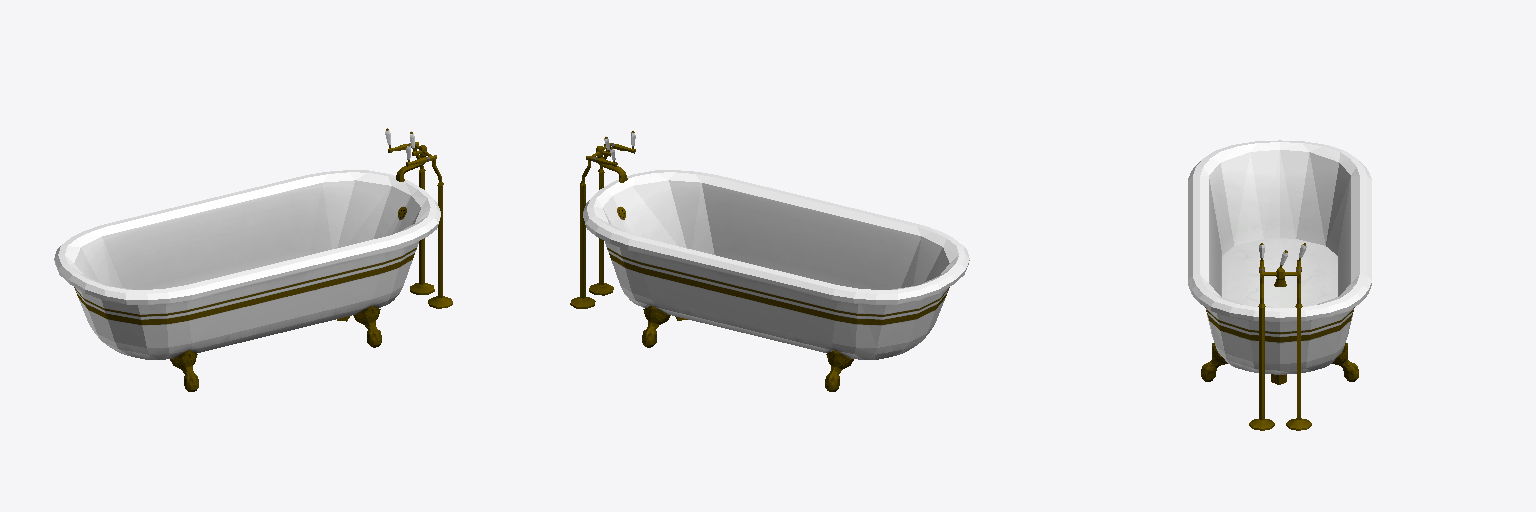
The picture shows the model from 3 angles: view 1: azimuth 30°, elevation 25°; view 2: azimuth 150°, elevation 25°; view 3: azimuth 270°, elevation 25°; orthographic projection.
Parts seen in each view (by area): view 1: Bathtub; view 2: Bathtub; view 3: Bathtub.
Part boxes in pixels (x1,y1,x2,y2): Bathtub: (54,128,452,391); Bathtub: (570,130,969,391); Bathtub: (1188,140,1371,430).
Bounding box in the file's own units: 332 × 142 × 142.
Materials: 1 (1 with a texture image).